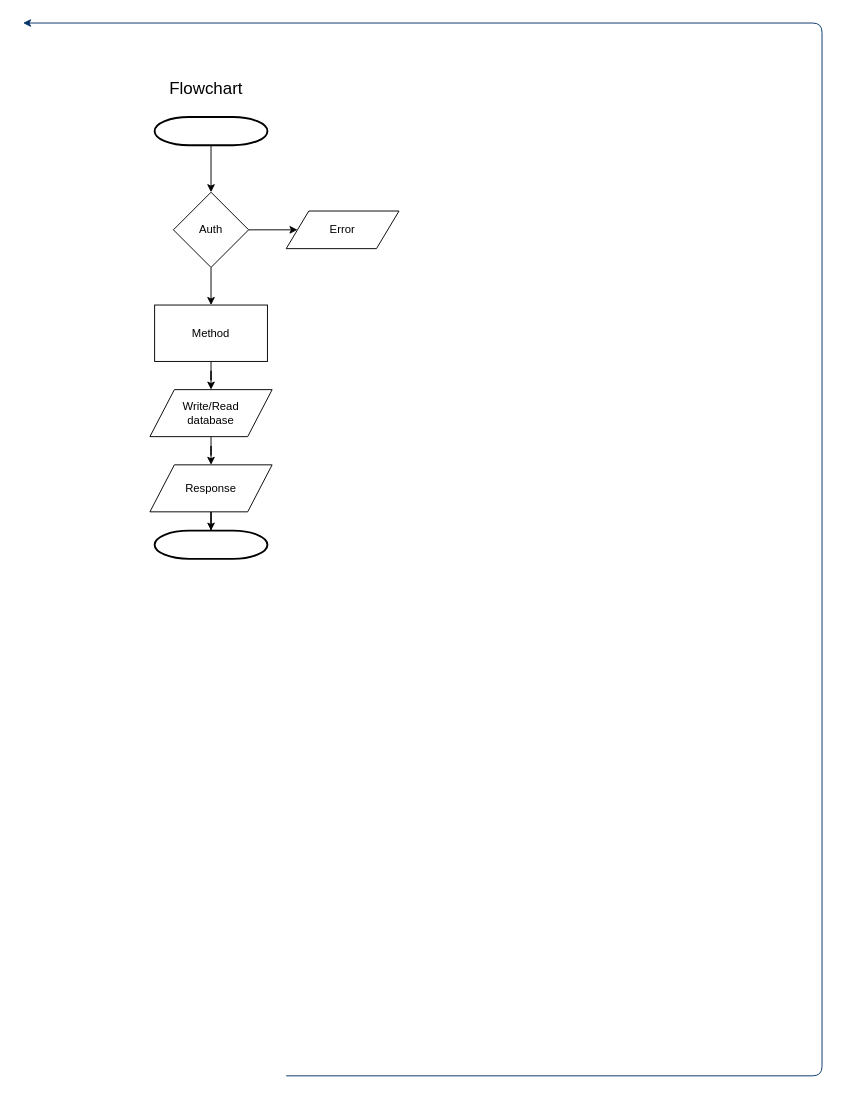
Some shapes in this 846 by 1100 pixel diagram are drawn without their labels. The centre of each missing label's shape, as x and y in pixels:
End: the point at 210,544
start: the point at 210,131
